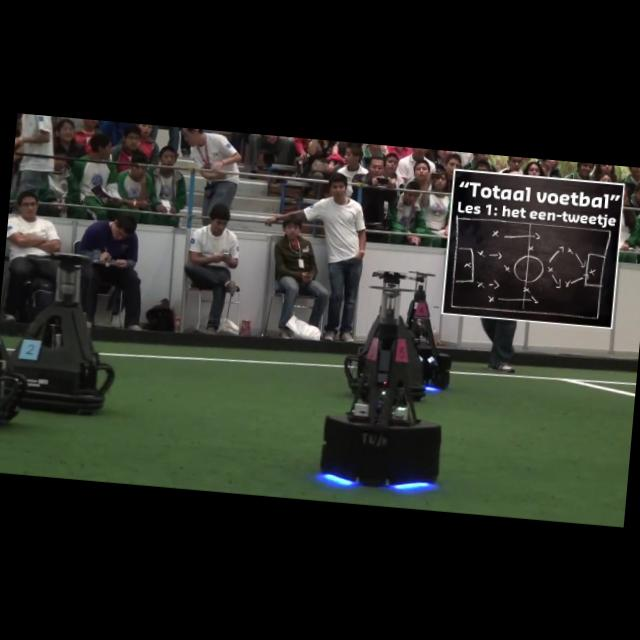robot: (320, 282, 441, 485), (10, 253, 114, 413), (406, 271, 451, 389)
